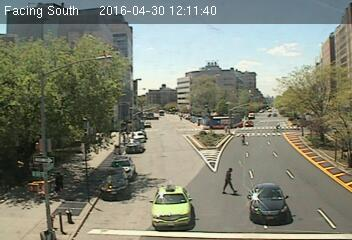neg: (68, 52, 99, 94), (285, 110, 315, 150), (152, 175, 181, 214), (18, 61, 44, 96), (267, 170, 293, 205), (20, 127, 43, 159), (124, 138, 146, 166), (196, 128, 216, 156), (99, 166, 119, 193), (149, 100, 168, 125), (101, 108, 119, 132)
pos: (220, 162, 245, 195), (50, 169, 71, 197), (237, 132, 249, 147)
